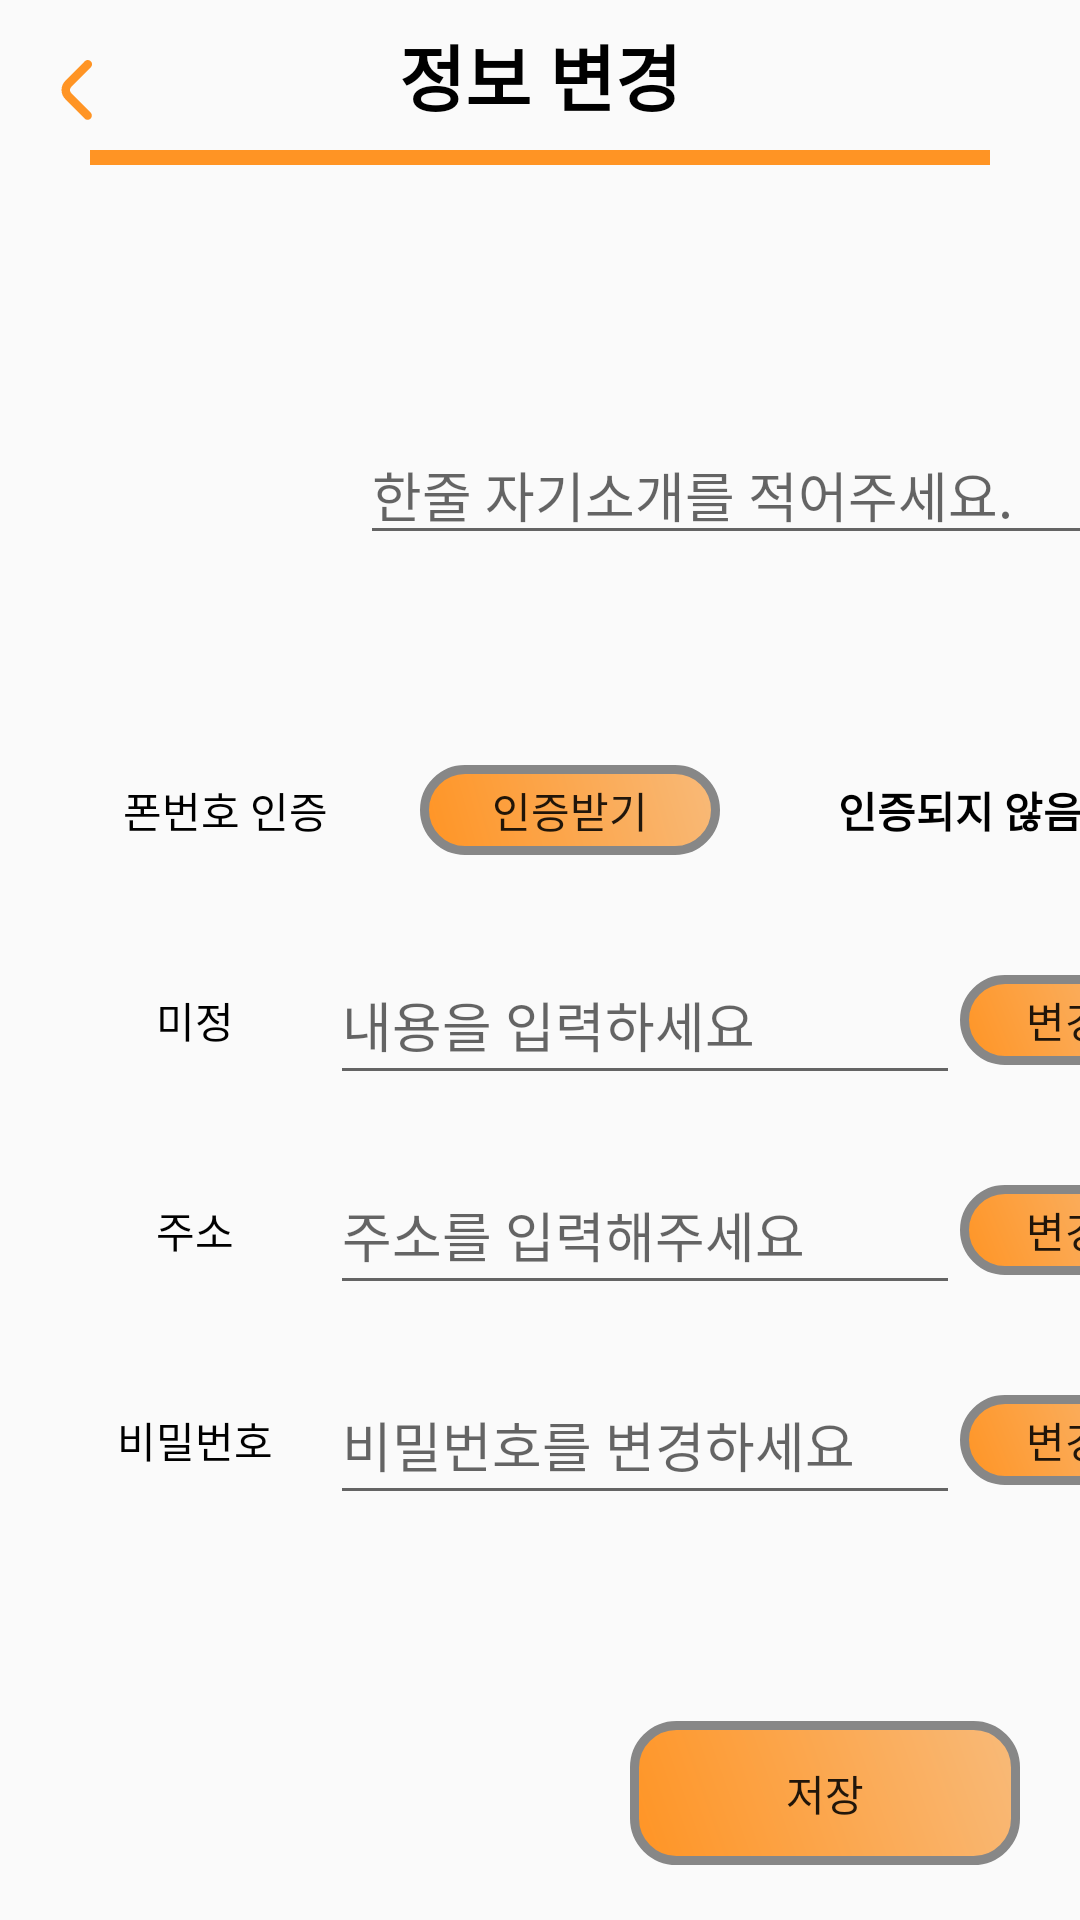

Screen size 1080px x 1920px. Icon name, then its center in pixels as (x,y):
back signiture: (76,90)
